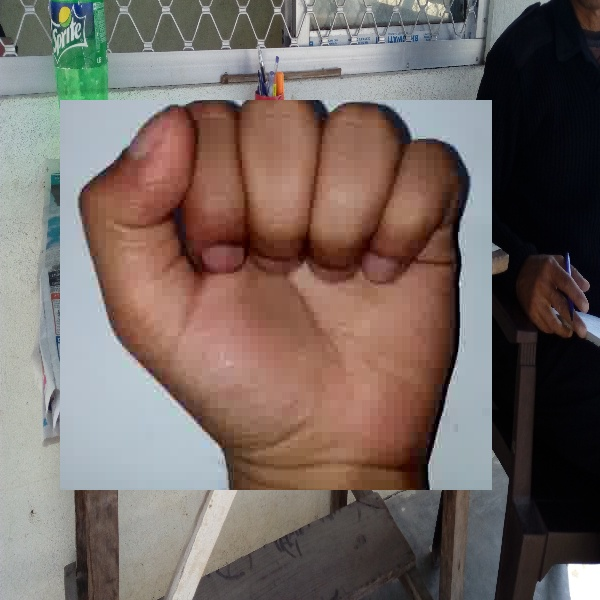A: (60, 100, 492, 490)
